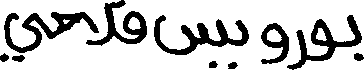ب: (346, 12, 362, 61)
ح: (50, 10, 81, 39)
ر: (287, 28, 307, 68)
س: (154, 12, 228, 54)
ف: (113, 0, 147, 44)
لا: (80, 0, 114, 47)
و: (261, 21, 288, 68), (306, 17, 333, 61)
ي: (0, 10, 48, 61), (210, 18, 247, 69)
